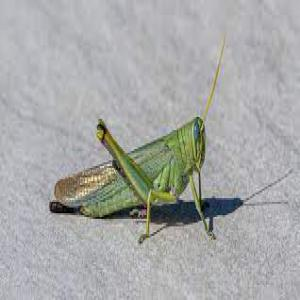locust: (53, 81, 218, 230)
